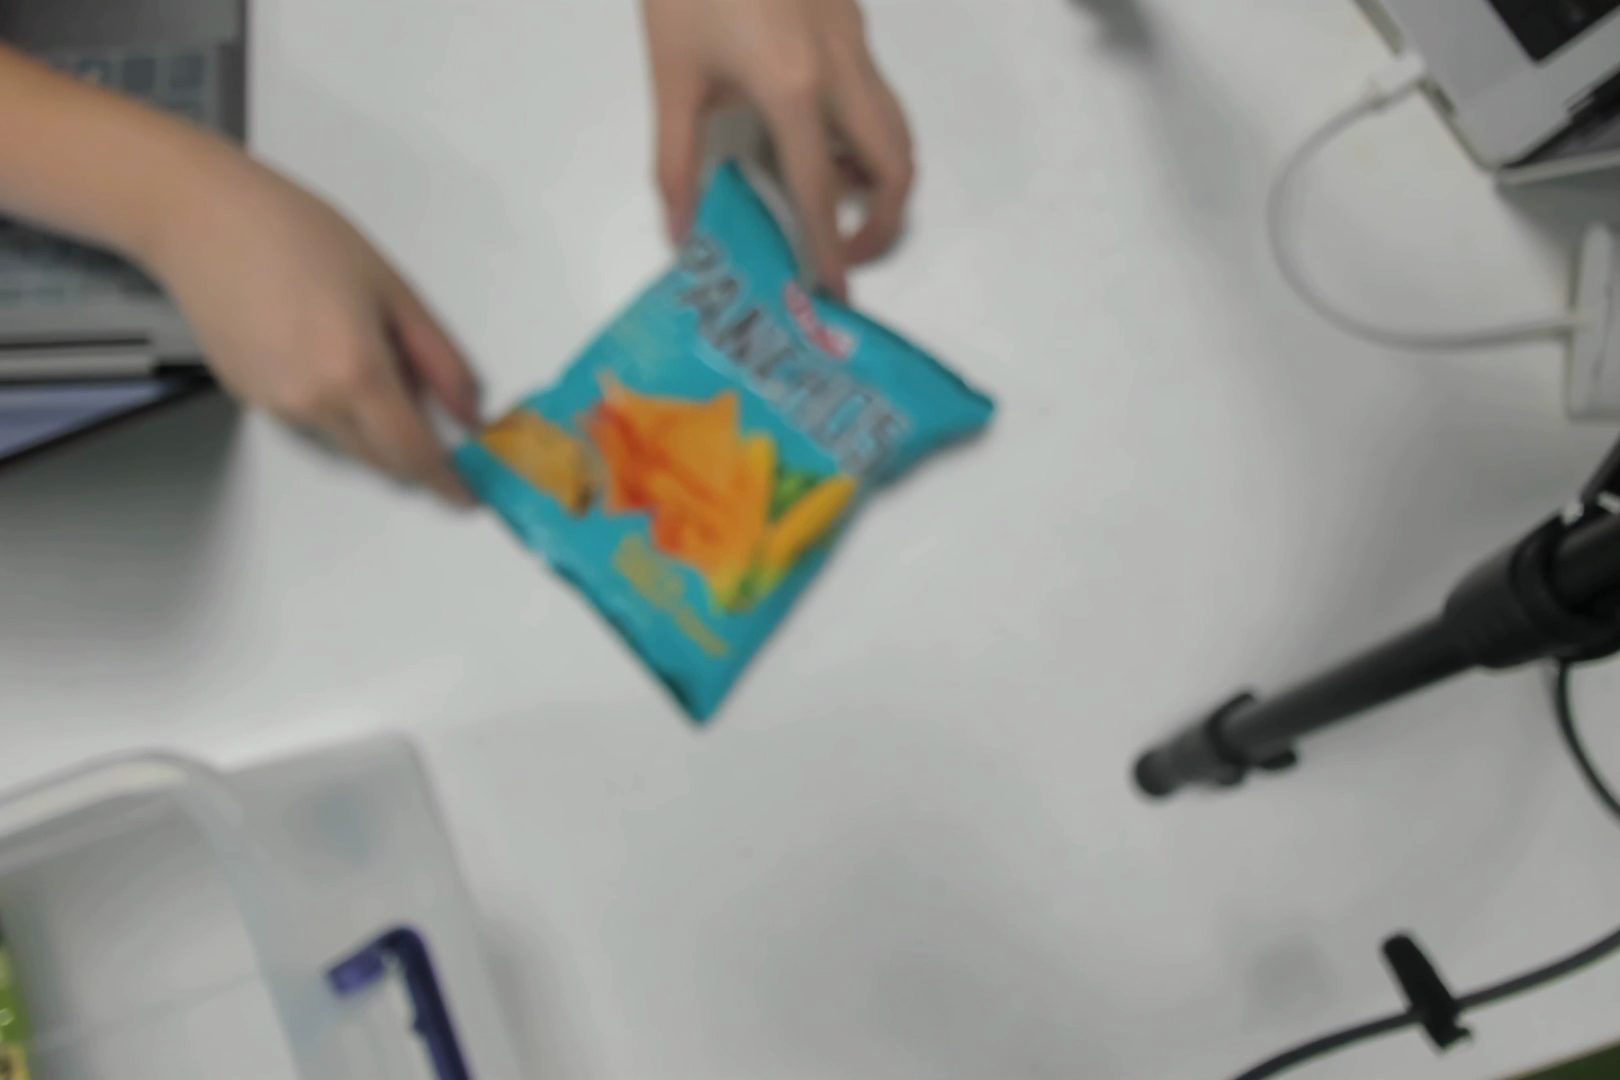PotatochipsKeropok_1-99g_NonHalal_NonHealthy: (527, 258, 943, 656)
